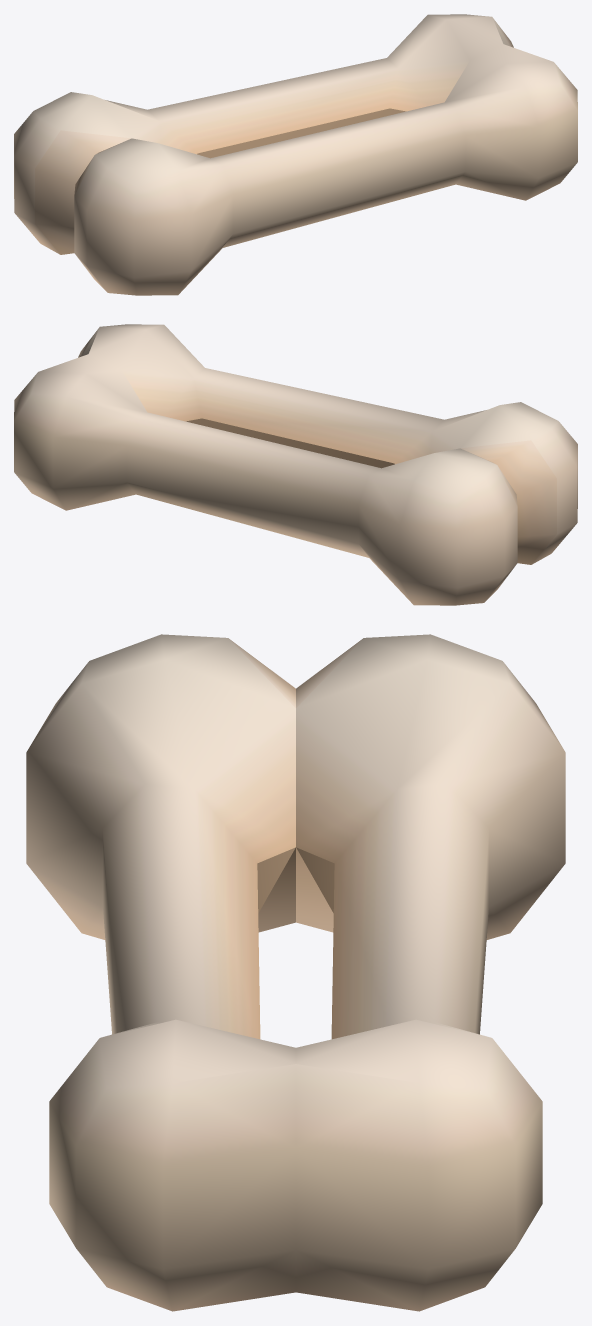
Rendered from kay-osso.gltf.
The picture shows the model from 3 angles, top to bottom: view 1: azimuth 30°, elevation 25°; view 2: azimuth 150°, elevation 25°; view 3: azimuth 270°, elevation 25°; orthographic projection. The views are drawn at different scales.
Parts seen in each view (by area): view 1: bone_B; view 2: bone_B; view 3: bone_B.
Part boxes in pixels (x1,y1,x2,y2): bone_B: (14,14,577,295); bone_B: (14,324,577,605); bone_B: (26,634,565,1311).
Bounding box in the file's own units: 0.3031 × 0.0873 × 0.1433.
1 material, 1 textured.
